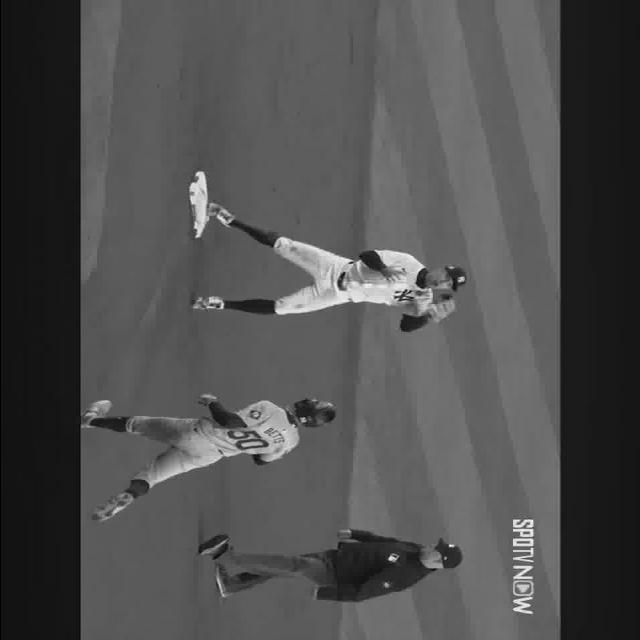base: (188, 171, 208, 238)
baseball_glove: (425, 301, 452, 322)
shoe: (92, 492, 133, 522), (78, 400, 112, 428), (205, 202, 235, 228), (198, 534, 228, 558), (213, 564, 234, 598), (190, 295, 223, 311)
